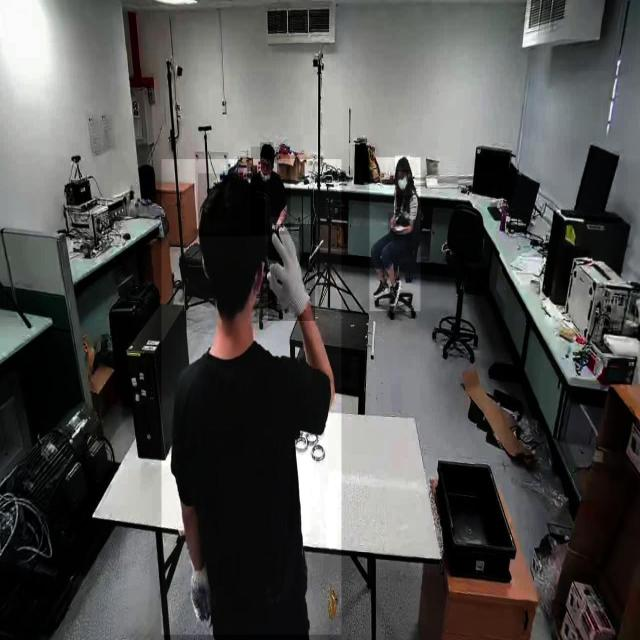face_mask: (395, 172, 411, 194)
hand_glove: (268, 224, 315, 321)
hand_noglove: (270, 217, 285, 232), (388, 212, 396, 234)
head_nohelmet: (198, 174, 266, 238), (260, 142, 274, 158), (395, 156, 411, 170)
person: (162, 159, 342, 636), (369, 157, 421, 312), (251, 146, 291, 235)
shoes: (371, 276, 391, 302), (388, 276, 403, 310)
